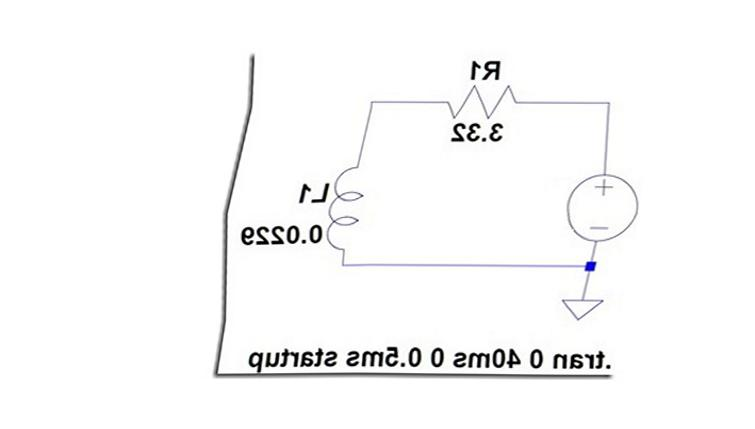Battery: (541, 160, 649, 252)
